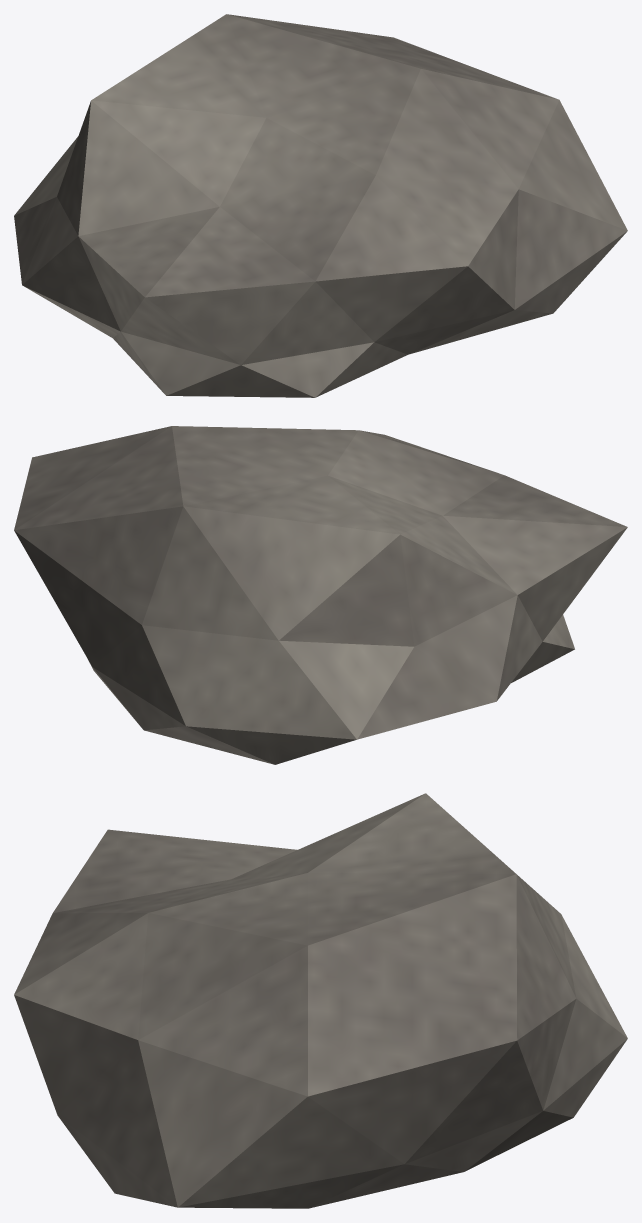
The model's file is rock_small.glb.
3 views of the same model, one above another, from view 1: azimuth 30°, elevation 25°; view 2: azimuth 150°, elevation 25°; view 3: azimuth 270°, elevation 25° (orthographic). The views are drawn at different scales.
Parts seen in each view (by area): view 1: rock_small; view 2: rock_small; view 3: rock_small.
Boxes of the visible parts, x1,y1,x2,y2 form: rock_small: (14,14,627,397); rock_small: (14,426,627,764); rock_small: (14,793,627,1208).
Size of the model in its own units: 0.7528 by 0.2898 by 0.6841.
Materials: 1 (1 with a texture image).
